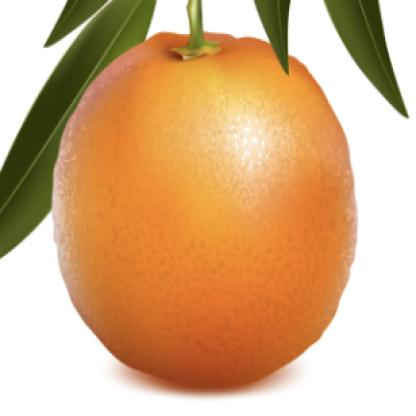fresh: (53, 27, 357, 393)
